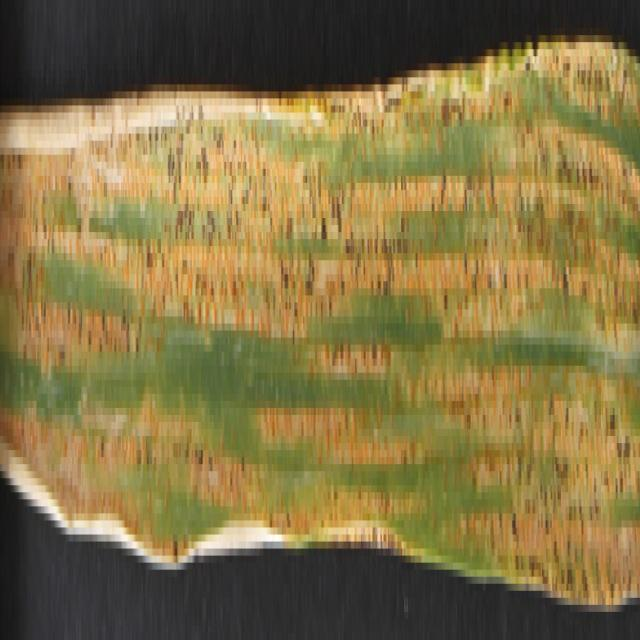leaf rust: (1, 7, 638, 584)
